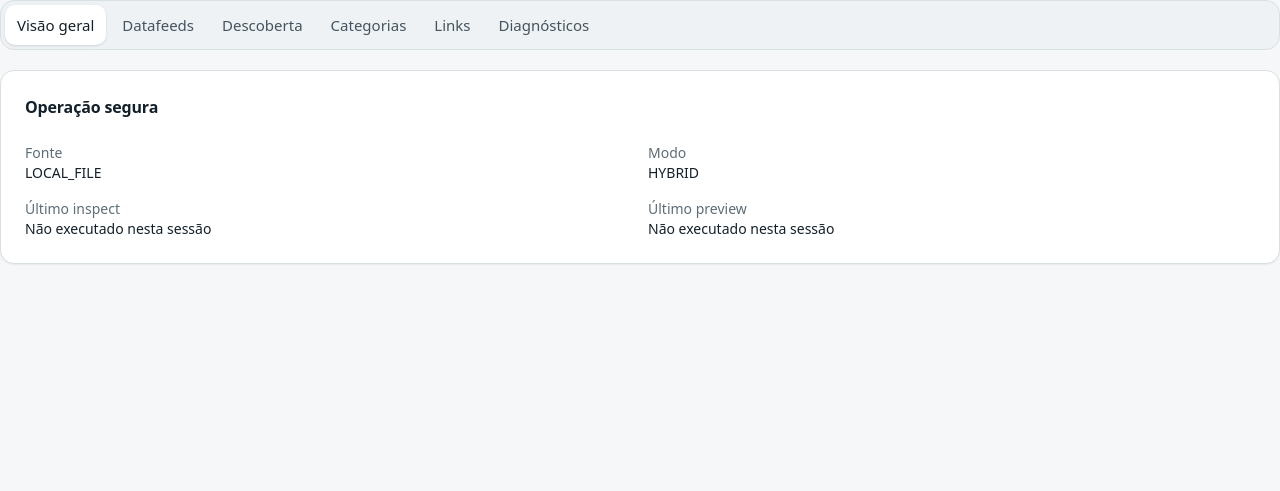
Test: ShopeeDatafeedConsole › prevents a duplicate bulk click while generation is pending
(page scrolled)
Click the tab "Links".
click(452, 25)  # box [422, 5, 482, 45]
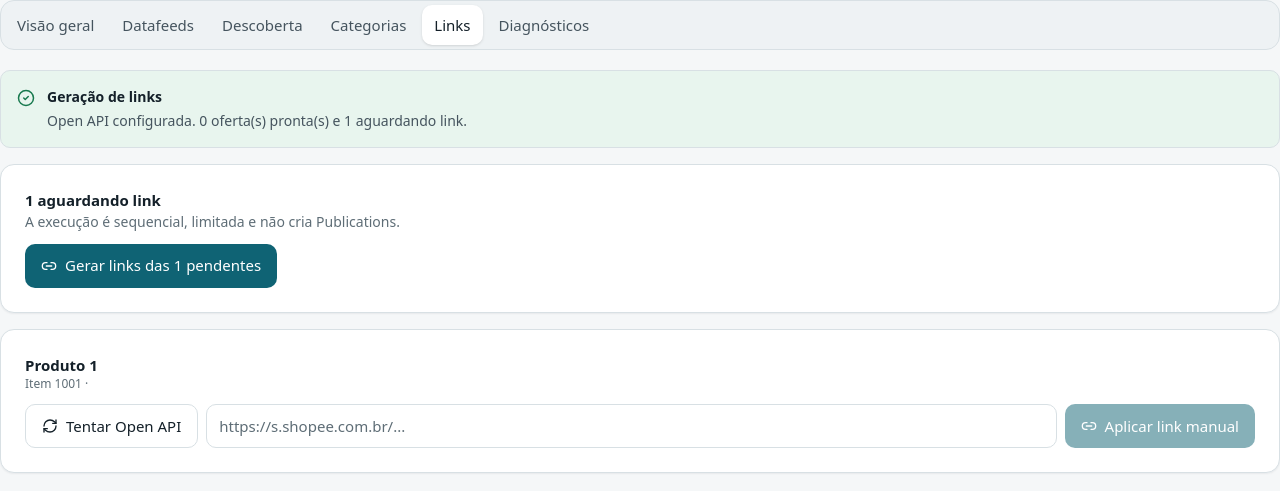
Click the button "Gerar links das 1 pendentes".
click(151, 266)  # box [25, 244, 277, 288]
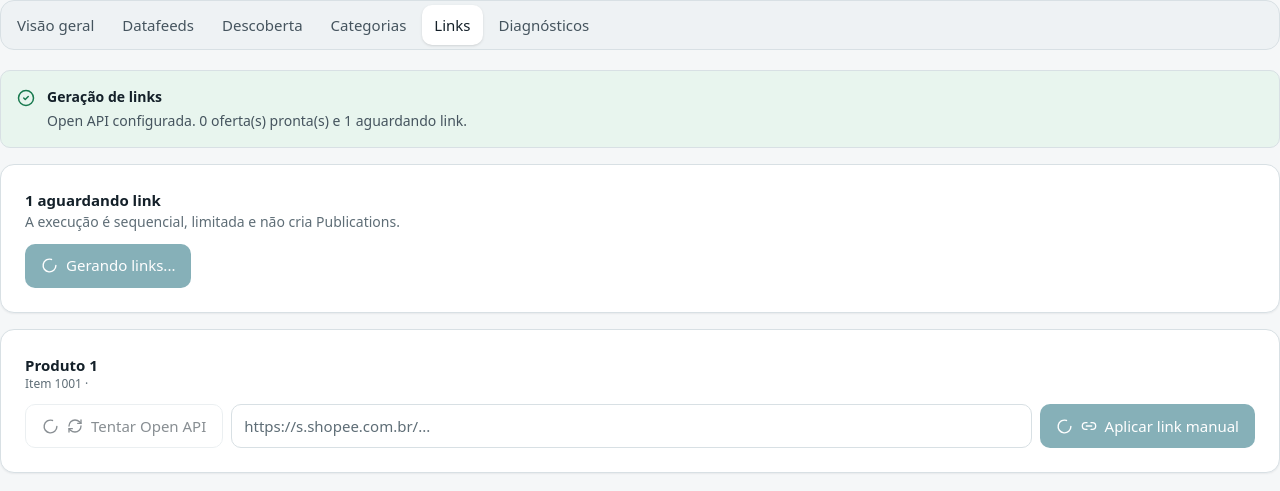
Click the button named "Gerar links das 1 pendentes".
click(108, 266)  # box [25, 244, 191, 288]
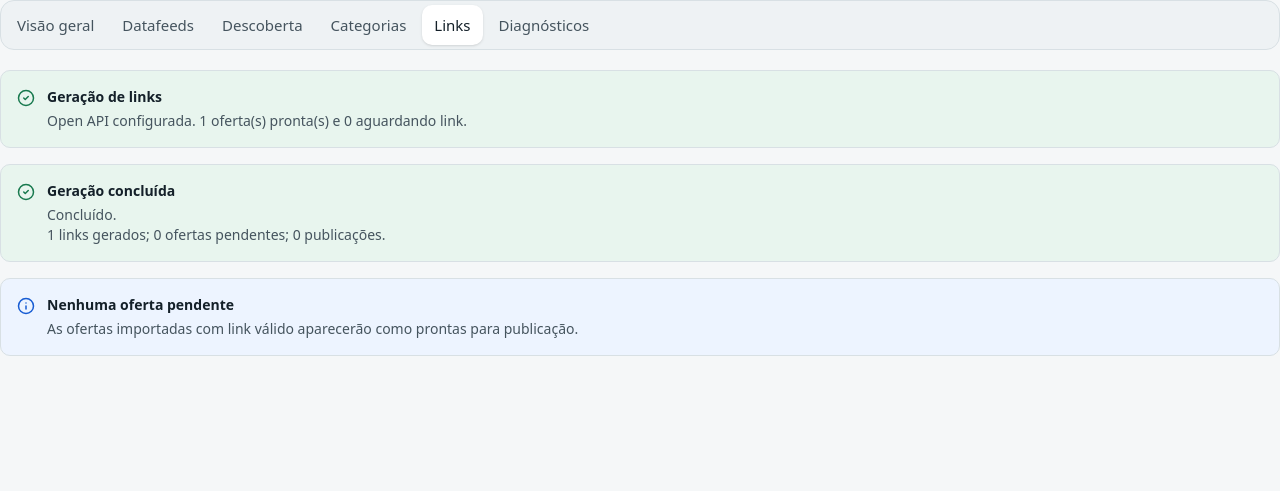
Expected: the text "Concluído." is shown, [47, 205, 116, 224]
